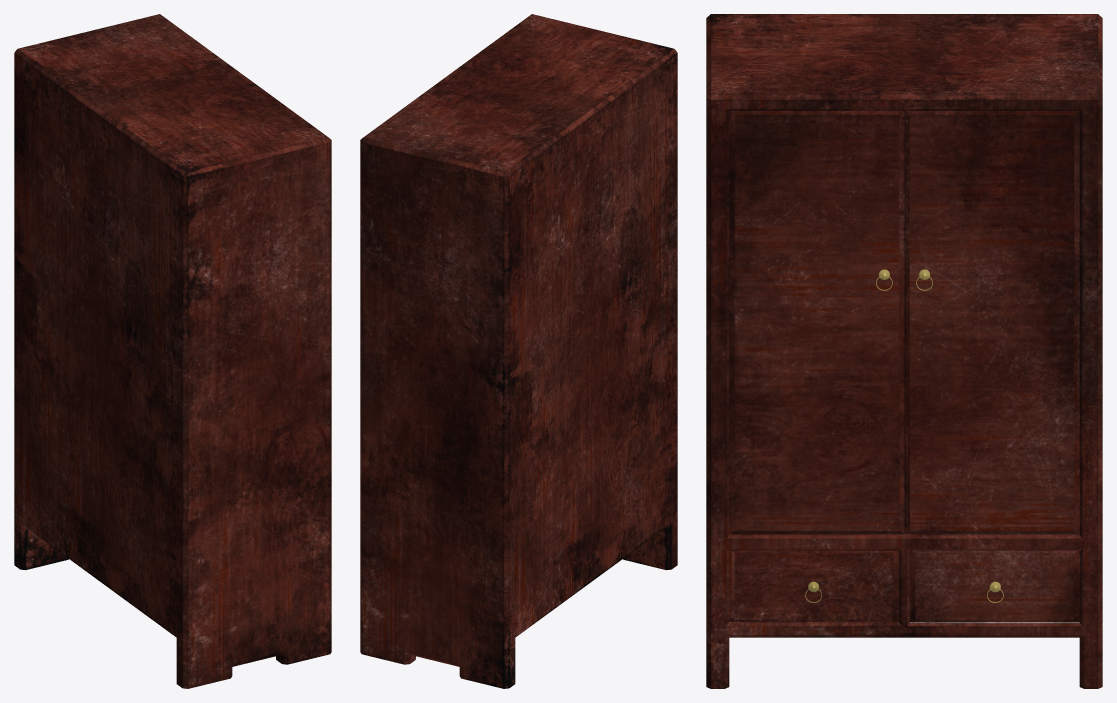
File: closet.glb
3 views of the same model, side by side, from view 1: azimuth 30°, elevation 25°; view 2: azimuth 150°, elevation 25°; view 3: azimuth 270°, elevation 25° (orthographic). The views are drawn at different scales.
Parts seen in each view (by area): view 1: Object_2; view 2: Object_2; view 3: Object_2.
Boxes of the visible parts, <box> form: Object_2: <box>14,14,331,688</box>; Object_2: <box>360,14,677,688</box>; Object_2: <box>706,14,1102,688</box>.
Size of the model in its own units: 0.5061 by 1.65 by 1.
1 material, 1 textured.
